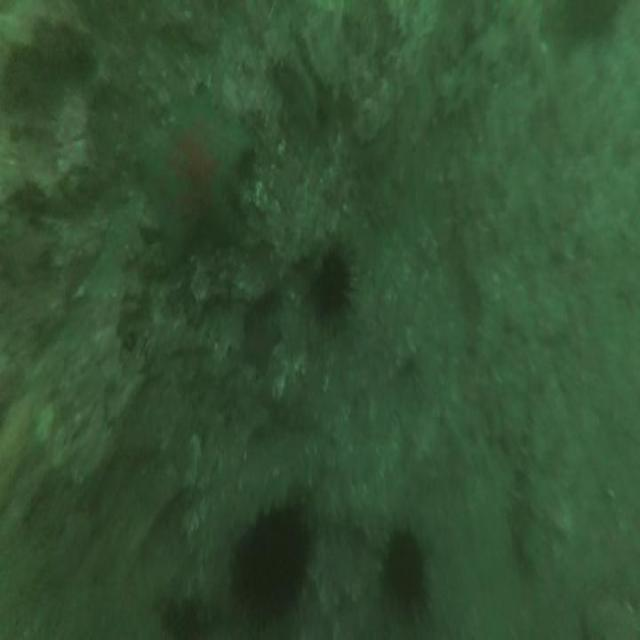echinus: (232, 503, 308, 624), (383, 528, 425, 607), (309, 246, 351, 322)
holothurian: (513, 411, 548, 577)
starfish: (136, 92, 250, 260), (240, 308, 279, 372)
